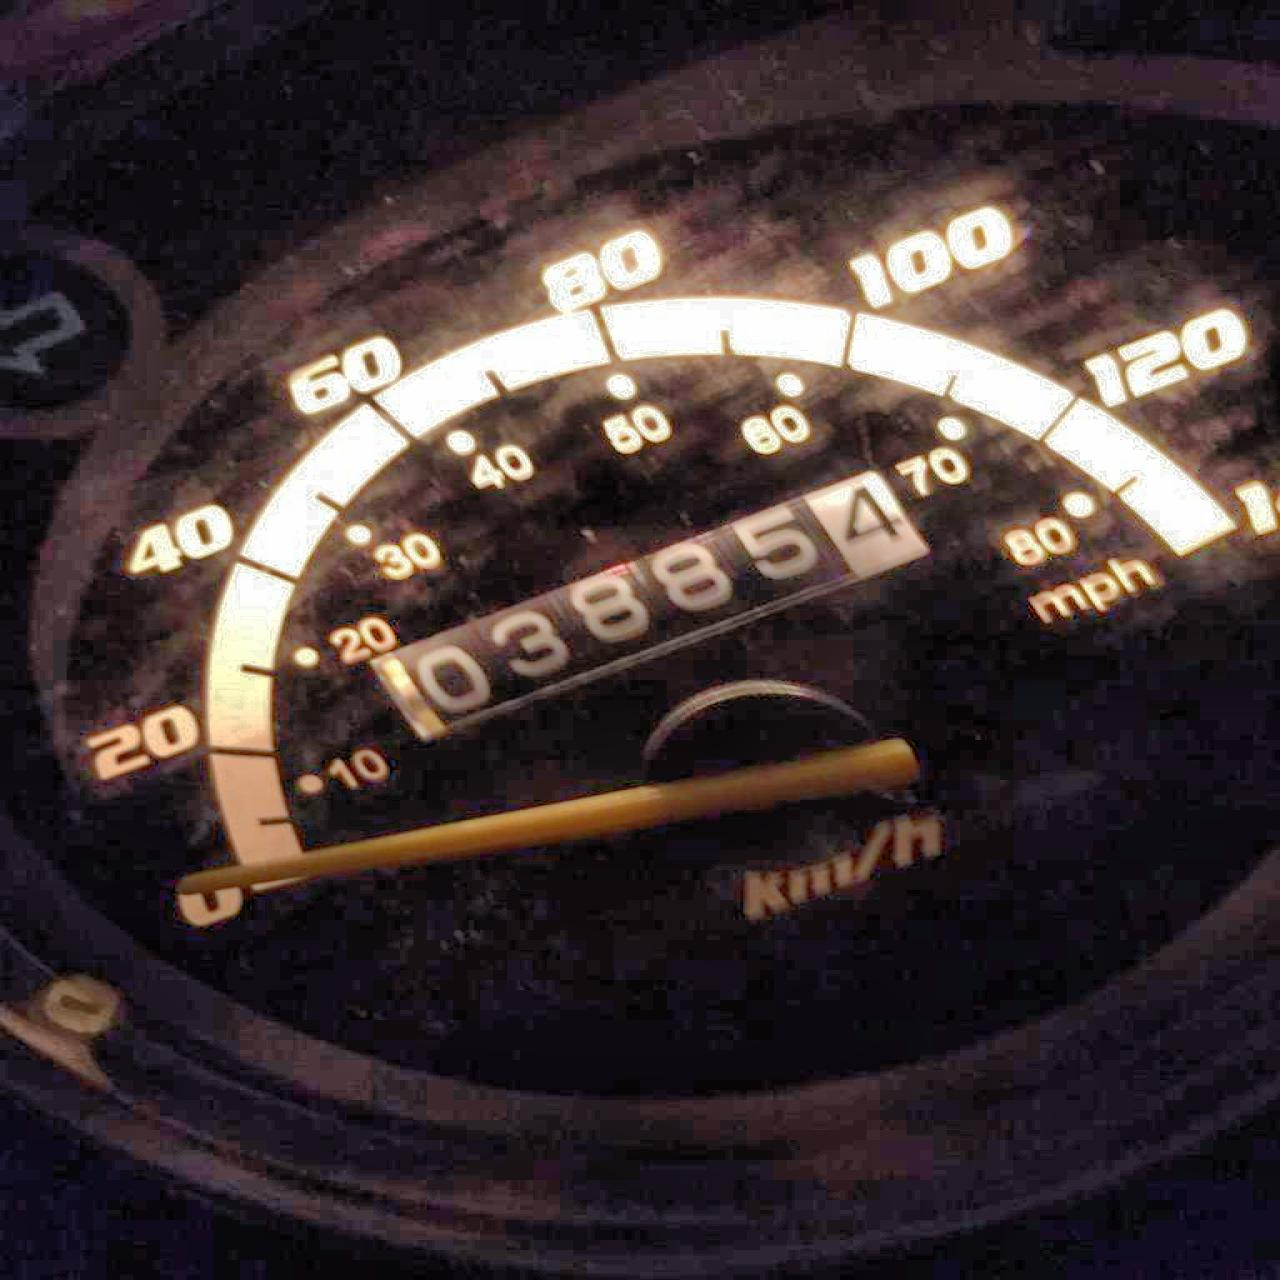0: (414, 641, 490, 710), (400, 531, 440, 568), (356, 617, 395, 652)
3: (490, 608, 570, 676), (370, 543, 411, 579)
4: (842, 484, 904, 544)
5: (729, 506, 818, 579)
8: (648, 543, 734, 613), (568, 572, 648, 641)
odometer: (363, 467, 932, 744)
